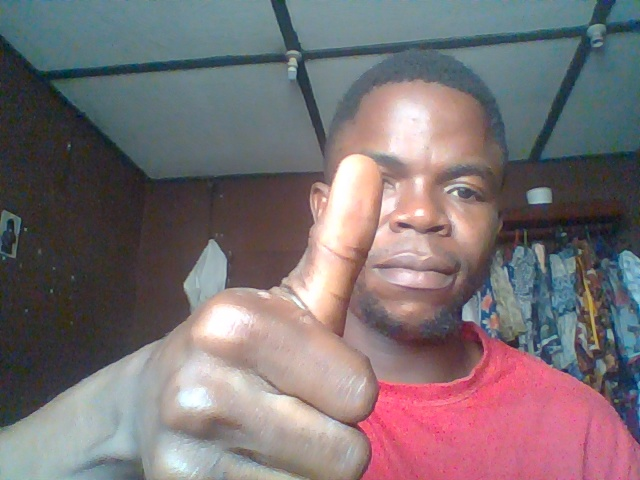Thumbup: (130, 153, 395, 480)
